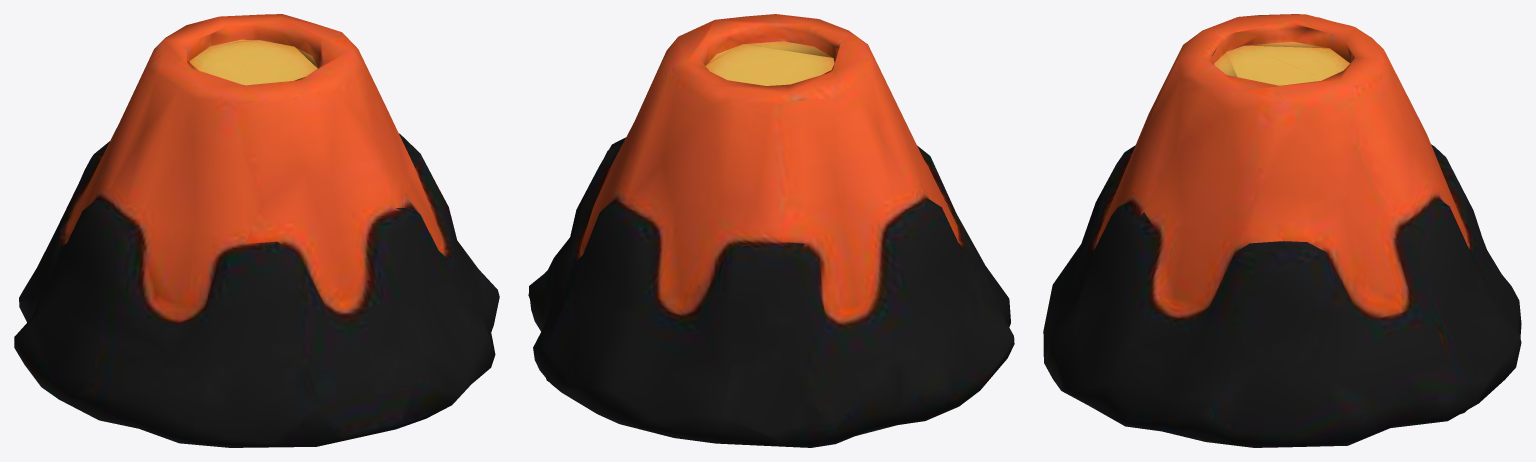
File: lg-volcano-cone.glb
The picture shows the model from 3 angles, left to right: view 1: azimuth 30°, elevation 25°; view 2: azimuth 150°, elevation 25°; view 3: azimuth 270°, elevation 25°; orthographic projection.
Parts seen in each view (by area): view 1: geometry_0; view 2: geometry_0; view 3: geometry_0.
Boxes of the visible parts, <box> form: geometry_0: <box>14,14,499,447</box>; geometry_0: <box>528,14,1014,447</box>; geometry_0: <box>1043,14,1521,447</box>.
Size of the model in its own units: 1 by 0.6926 by 0.9906.
Materials: 1 (1 with a texture image).
